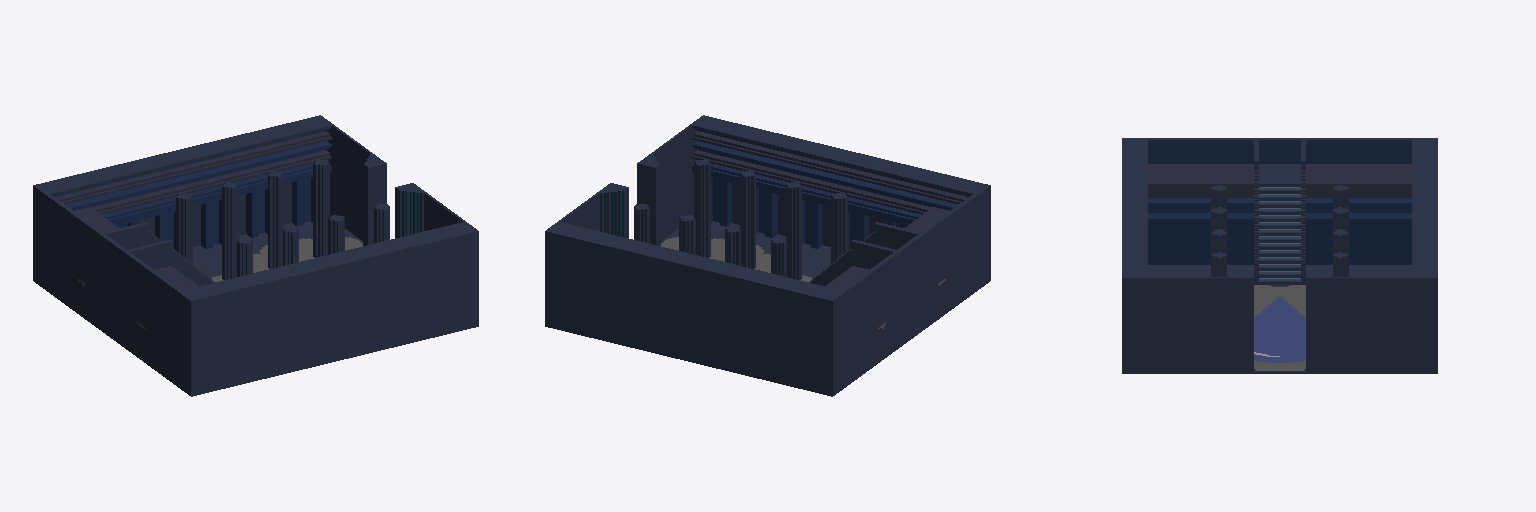
3 views of the same model, side by side, from view 1: azimuth 30°, elevation 25°; view 2: azimuth 150°, elevation 25°; view 3: azimuth 270°, elevation 25° (orthographic).
Parts seen in each view (by area): view 1: object 1; view 2: object 1; view 3: object 1.
Part boxes in pixels (x1,y1,x2,y2): object 1: (33, 115, 478, 396); object 1: (545, 115, 990, 396); object 1: (1122, 138, 1437, 373).
Bounding box in the file's own units: 12.6 × 4 × 12.
1 materials, 1 textured.